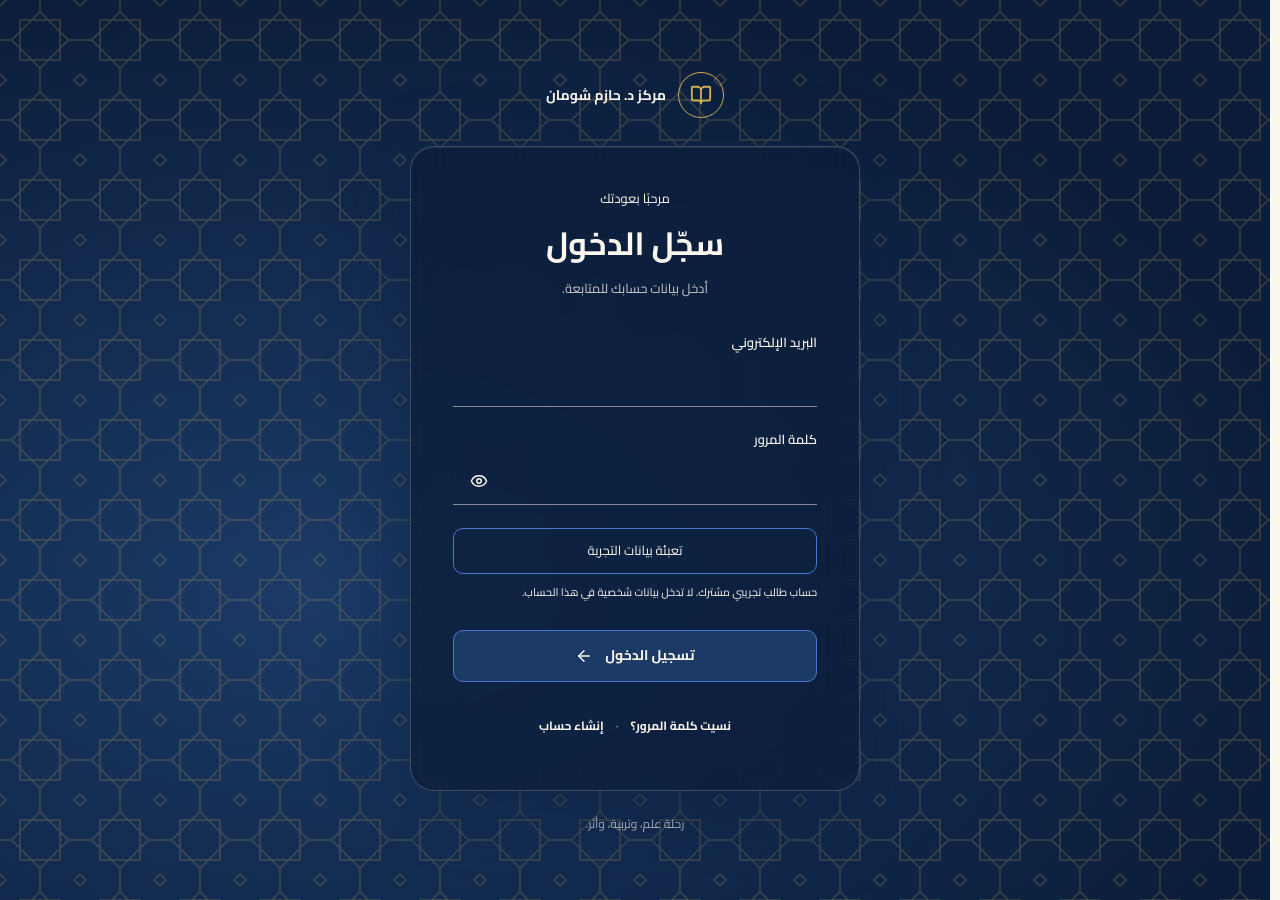
fills trial credentials only on request without submitting the login form
Expected: the field labelled "البريد الإلكتروني" is empty, [453,359,817,407]
What coordinates should you click on to do the following:
click the button "تعبئة بيانات التجربة"
I would click on:
 (635, 551)
Its box is [453,528,817,574].
(page scrolled)
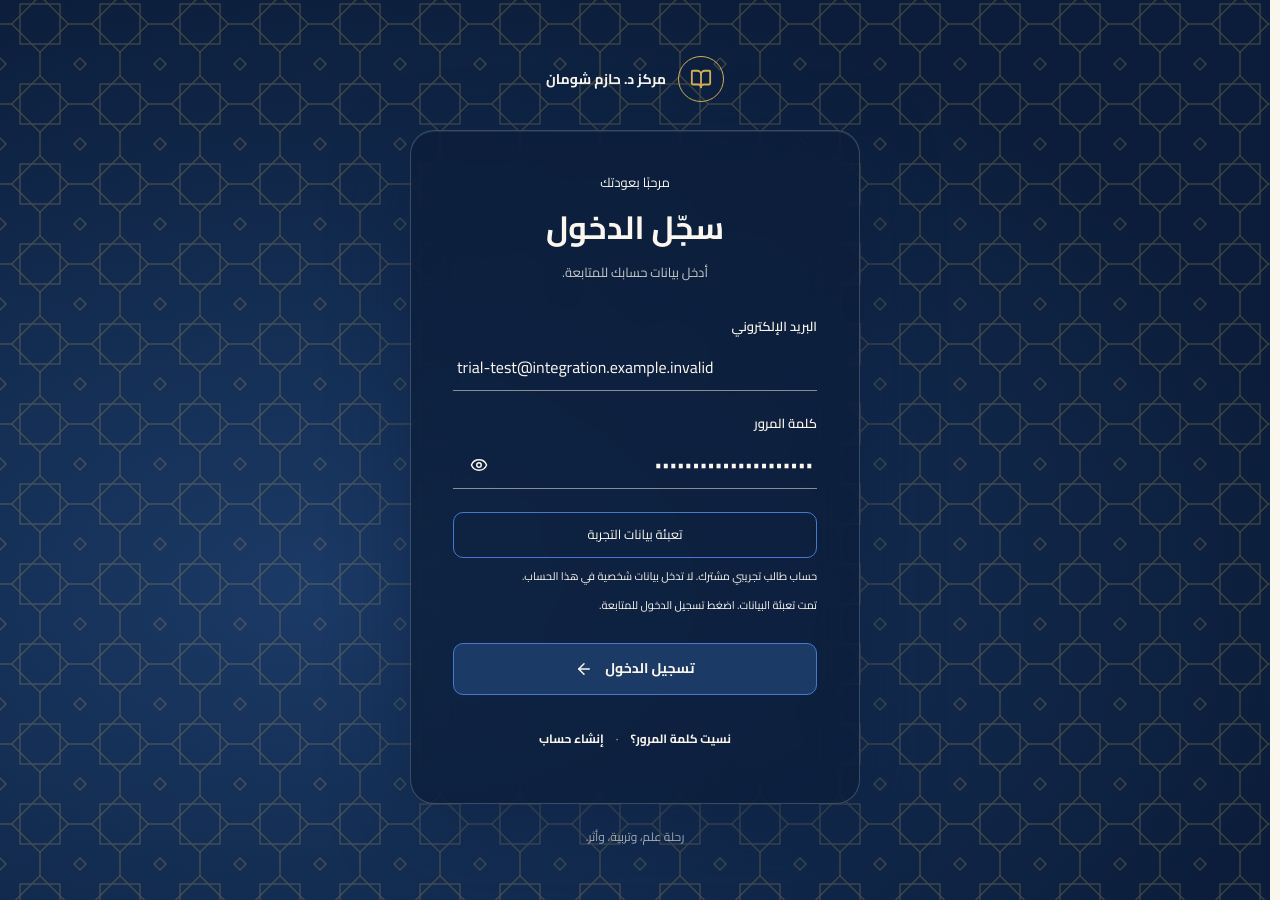
Now the field labelled "البريد الإلكتروني" holds "trial-test@integration.example.invalid", box [453,343,817,391]
Now the password field labelled "كلمة المرور" holds "public-trial-password", box [453,441,817,489]
